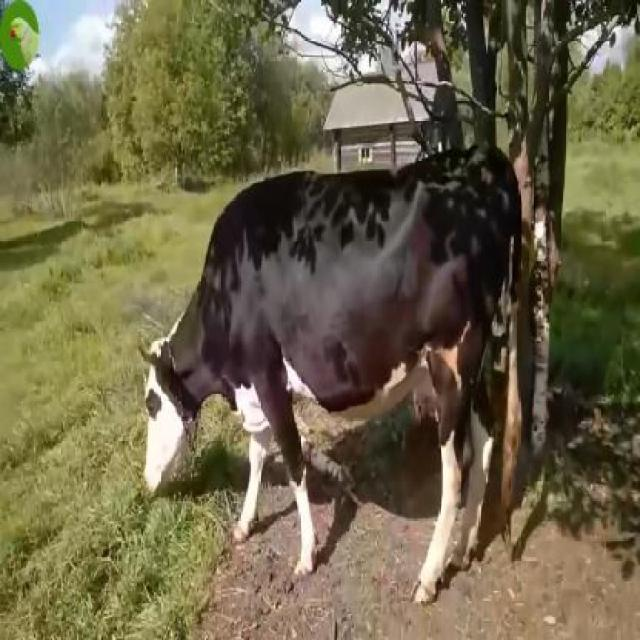Cow: (146, 143, 522, 591)
